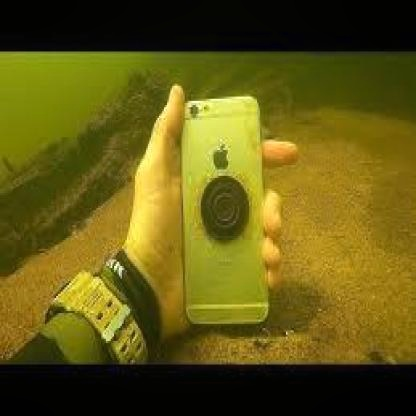cellphone: (180, 92, 271, 328)
